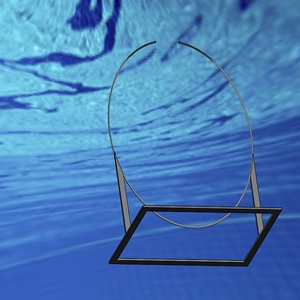circle: (106, 38, 282, 267)
